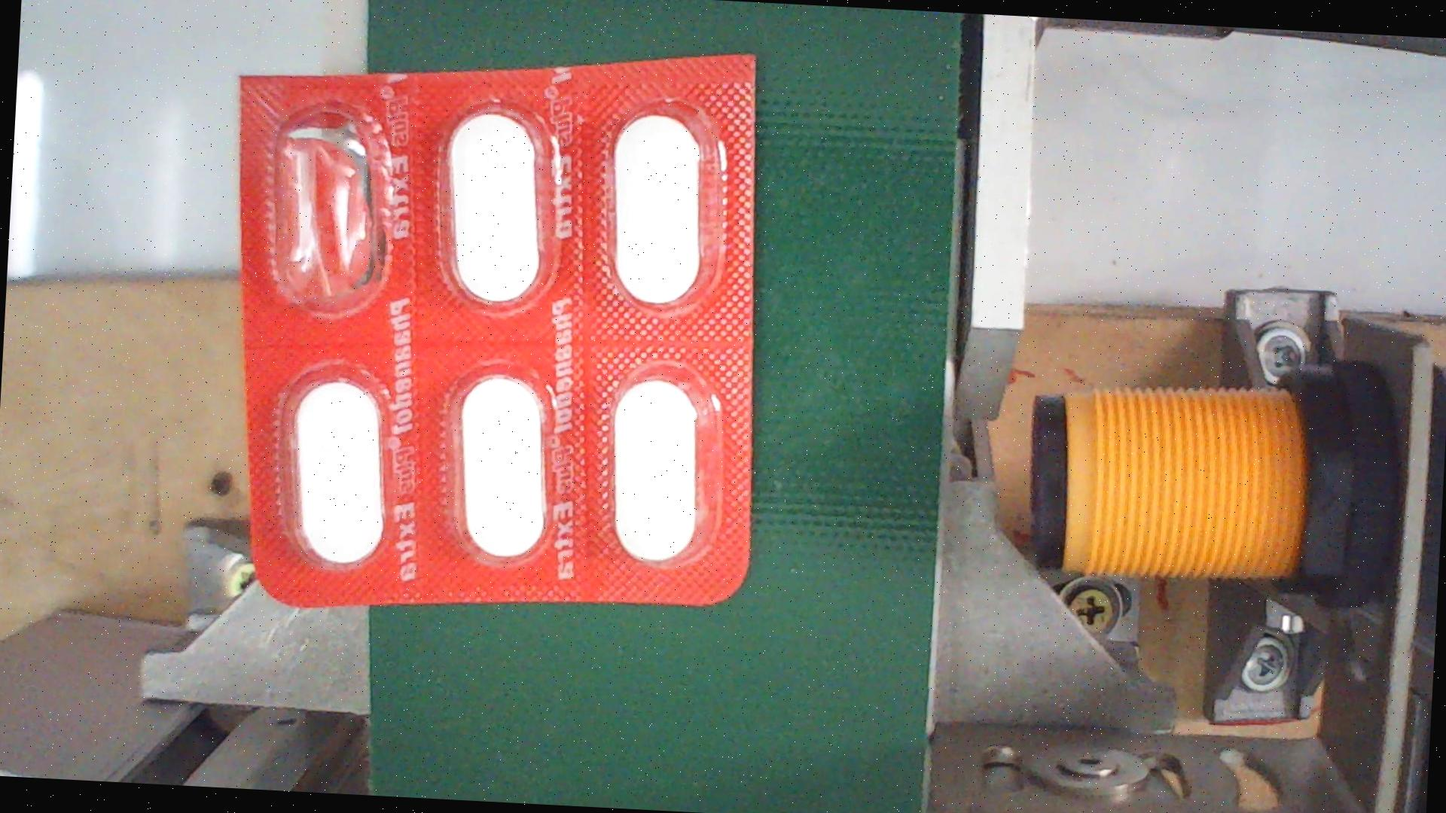Empty: (265, 95, 377, 315)
Full: (437, 96, 550, 316), (599, 354, 712, 574), (446, 355, 559, 575), (279, 357, 392, 577), (601, 99, 713, 319)
